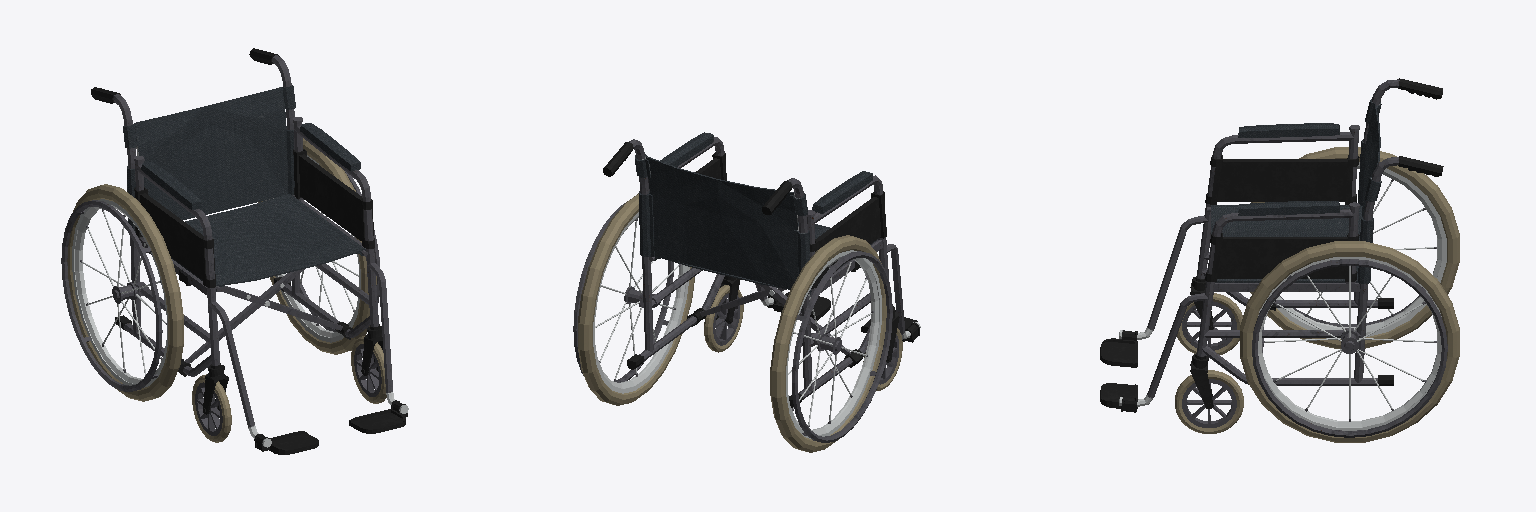
3 renders of one model, left to right at view 1: azimuth 30°, elevation 25°; view 2: azimuth 150°, elevation 25°; view 3: azimuth 270°, elevation 25°, orthographic.
Parts seen in each view (by area): view 1: object_0; view 2: object_0; view 3: object_0.
Part boxes in pixels (x1,y1,x2,y2): object_0: (61, 48, 408, 454); object_0: (573, 132, 920, 452); object_0: (1100, 78, 1459, 442).
Bounding box in the file's own units: 73.38 × 86.72 × 102.
Materials: 1 (1 with a texture image).